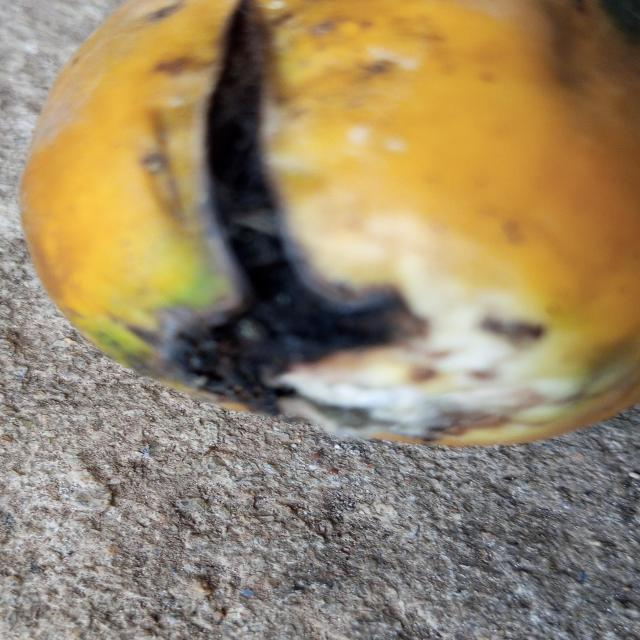damaged: (18, 0, 640, 452)
